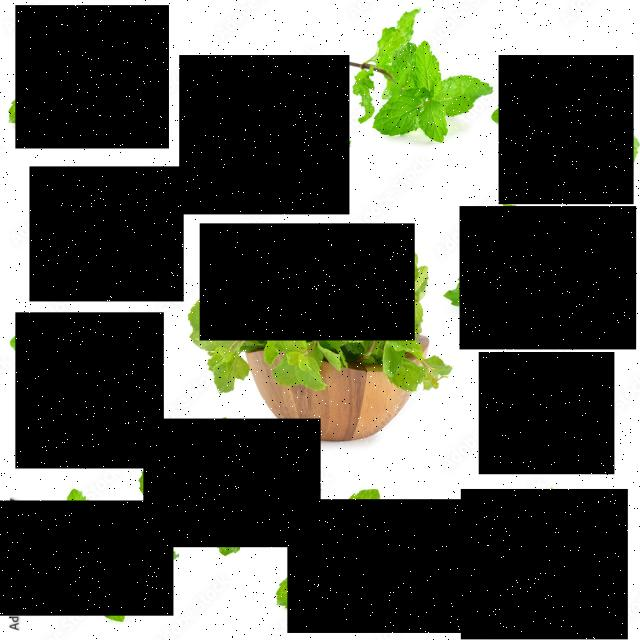Green_Mint: (180, 56, 350, 214), (460, 206, 636, 350), (461, 489, 628, 640), (200, 224, 415, 341), (288, 499, 465, 633), (16, 312, 164, 468), (144, 419, 320, 547), (16, 5, 169, 149), (30, 166, 184, 302), (499, 55, 634, 204), (0, 501, 173, 616), (354, 17, 486, 161), (479, 352, 614, 474)
